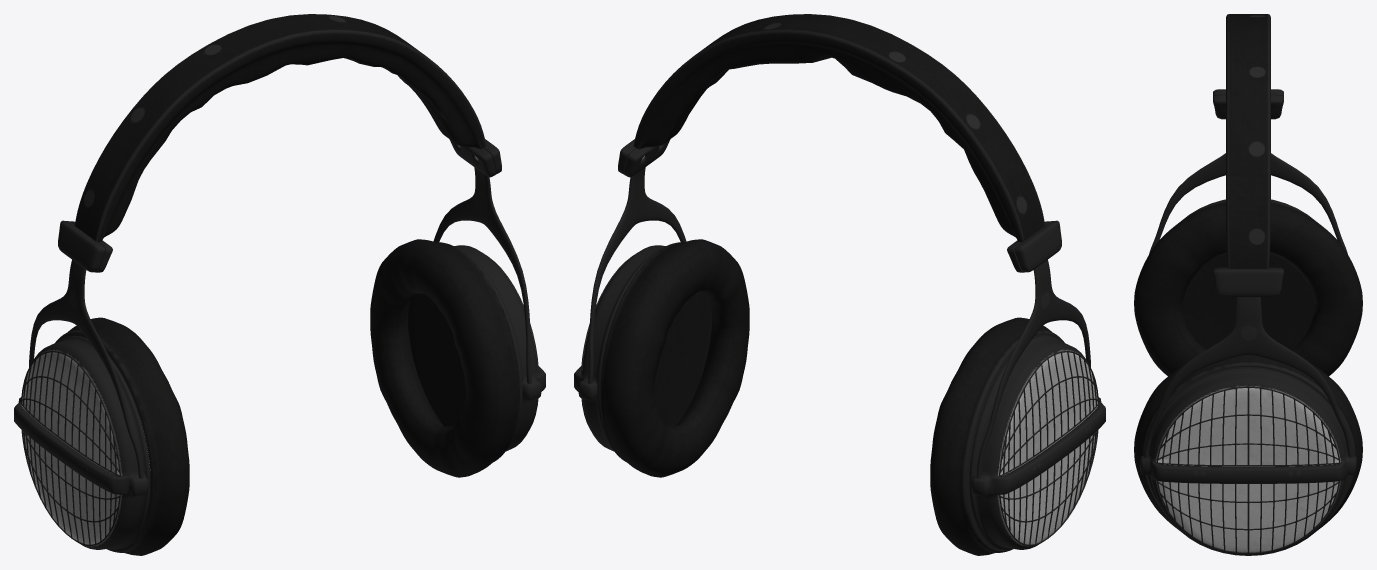
File: Headphones.fbx
3 views of the same model, side by side, from view 1: azimuth 30°, elevation 25°; view 2: azimuth 150°, elevation 25°; view 3: azimuth 270°, elevation 25° (orthographic). The views are drawn at different scales.
Parts seen in each view (by area): view 1: Cushions, Headphones.Body, HeadBand, Adjustable.2, Wireframe.Detail, Adjustable.1; view 2: Cushions, Headphones.Body, HeadBand, Adjustable.2, Wireframe.Detail, Adjustable.1; view 3: Headphones.Body, Cushions, HeadBand, Adjustable.2, Wireframe.Detail, Adjustable.1.
Part boxes in pixels (left/top/right/bottom): Cushions: left=54, top=239, right=519, bottom=555; Headphones.Body: left=14, top=245, right=545, bottom=549; HeadBand: left=74, top=14, right=486, bottom=241; Adjustable.2: left=29, top=167, right=531, bottom=478; Wireframe.Detail: left=21, top=255, right=538, bottom=546; Adjustable.1: left=58, top=139, right=501, bottom=272; Cushions: left=600, top=239, right=1065, bottom=555; Headphones.Body: left=574, top=245, right=1105, bottom=549; HeadBand: left=633, top=14, right=1045, bottom=241; Adjustable.2: left=588, top=167, right=1090, bottom=478; Wireframe.Detail: left=581, top=255, right=1098, bottom=546; Adjustable.1: left=618, top=139, right=1061, bottom=272; Headphones.Body: left=1140, top=199, right=1356, bottom=555; Cushions: left=1134, top=202, right=1362, bottom=529; HeadBand: left=1226, top=14, right=1270, bottom=268; Adjustable.2: left=1144, top=153, right=1352, bottom=457; Wireframe.Detail: left=1156, top=386, right=1340, bottom=553; Adjustable.1: left=1213, top=89, right=1283, bottom=296.
Bounding box in the file's own units: 518 × 532 × 249.
1 material, 1 textured.
